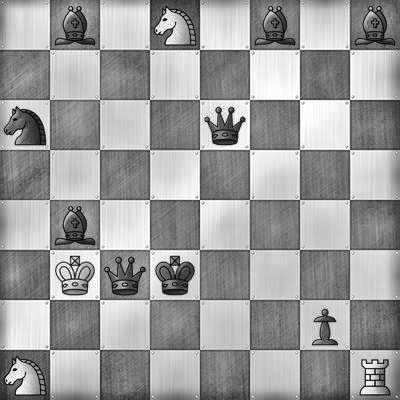black-bishop: (50, 0, 100, 50), (250, 0, 300, 50), (350, 0, 400, 50), (50, 200, 100, 250)
black-king: (150, 250, 200, 300)
black-knight: (0, 100, 50, 150)
black-pawn: (300, 300, 350, 350)
black-queen: (200, 100, 250, 150), (100, 250, 150, 300)
white-king: (50, 250, 100, 300)
white-knight: (150, 0, 200, 50), (0, 350, 50, 400)
white-rook: (350, 350, 400, 400)
